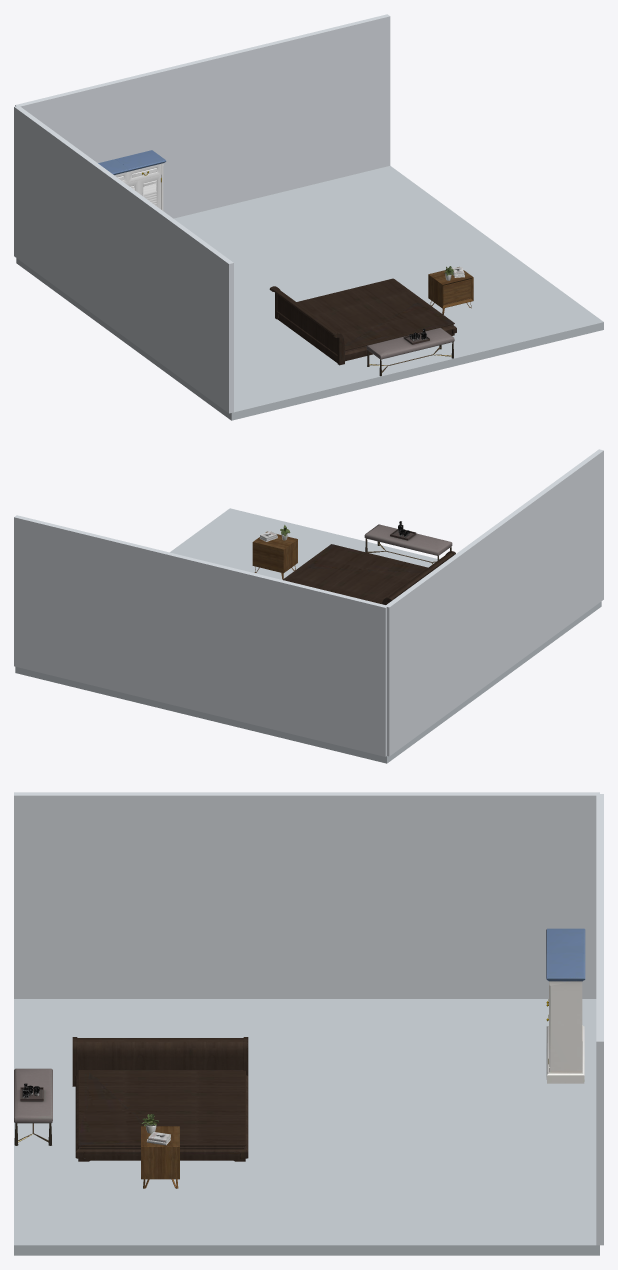
File: stage3.glb
3 renders of one model, top to bottom at view 1: azimuth 30°, elevation 25°; view 2: azimuth 150°, elevation 25°; view 3: azimuth 270°, elevation 25°, orthographic. The views are drawn at different scales.
Parts seen in each view (by area): view 1: Floor, wall_back, wall_left, raw_model, raw_model.002, raw_model.001, solid_001; view 2: wall_back, wall_left, Floor, raw_model, raw_model.001, solid_001; view 3: Floor, wall_left, raw_model, raw_model.002, wall_back, raw_model.001, solid_001.
Part boxes in pixels (box(x1,y1,x2,y2)): Floor: box(16, 165, 603, 420); wall_back: box(15, 14, 390, 218); wall_left: box(14, 105, 233, 413); raw_model: box(269, 278, 456, 365); raw_model.002: box(98, 150, 166, 210); raw_model.001: box(428, 266, 473, 314); solid_001: box(366, 327, 454, 359); wall_back: box(14, 515, 387, 756); wall_left: box(386, 449, 603, 756); Floor: box(15, 508, 601, 763); raw_model: box(283, 544, 455, 604); raw_model.001: box(252, 525, 297, 579); solid_001: box(364, 524, 452, 555); Floor: box(14, 999, 599, 1255); wall_left: box(14, 792, 599, 998); raw_model: box(72, 1037, 248, 1161); raw_model.002: box(546, 928, 585, 1083); wall_back: box(596, 794, 603, 1245); raw_model.001: box(141, 1114, 179, 1188); solid_001: box(14, 1068, 52, 1123).
Size of the model in its own units: 6.04 by 2.42 by 6.04.
6 materials, 4 textured.
